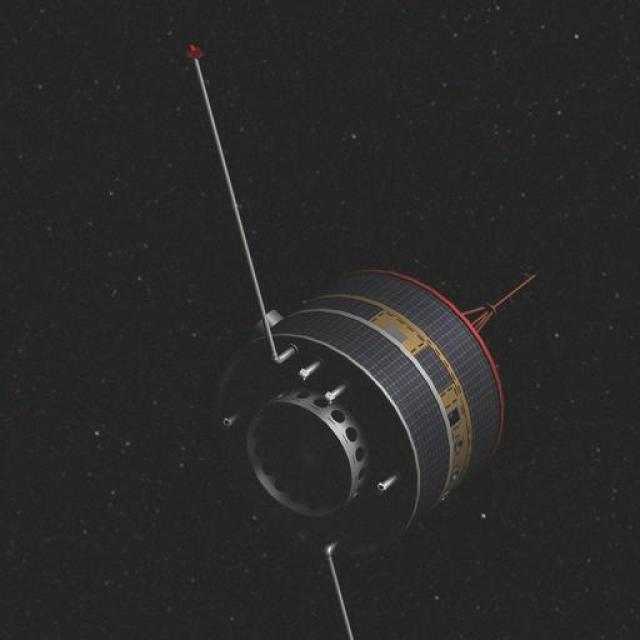double_start: (157, 230, 571, 548)
